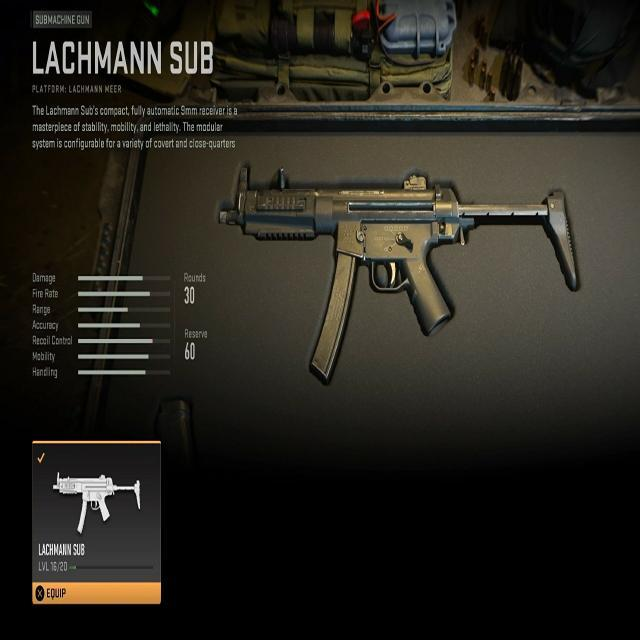smg: (214, 161, 585, 383)
